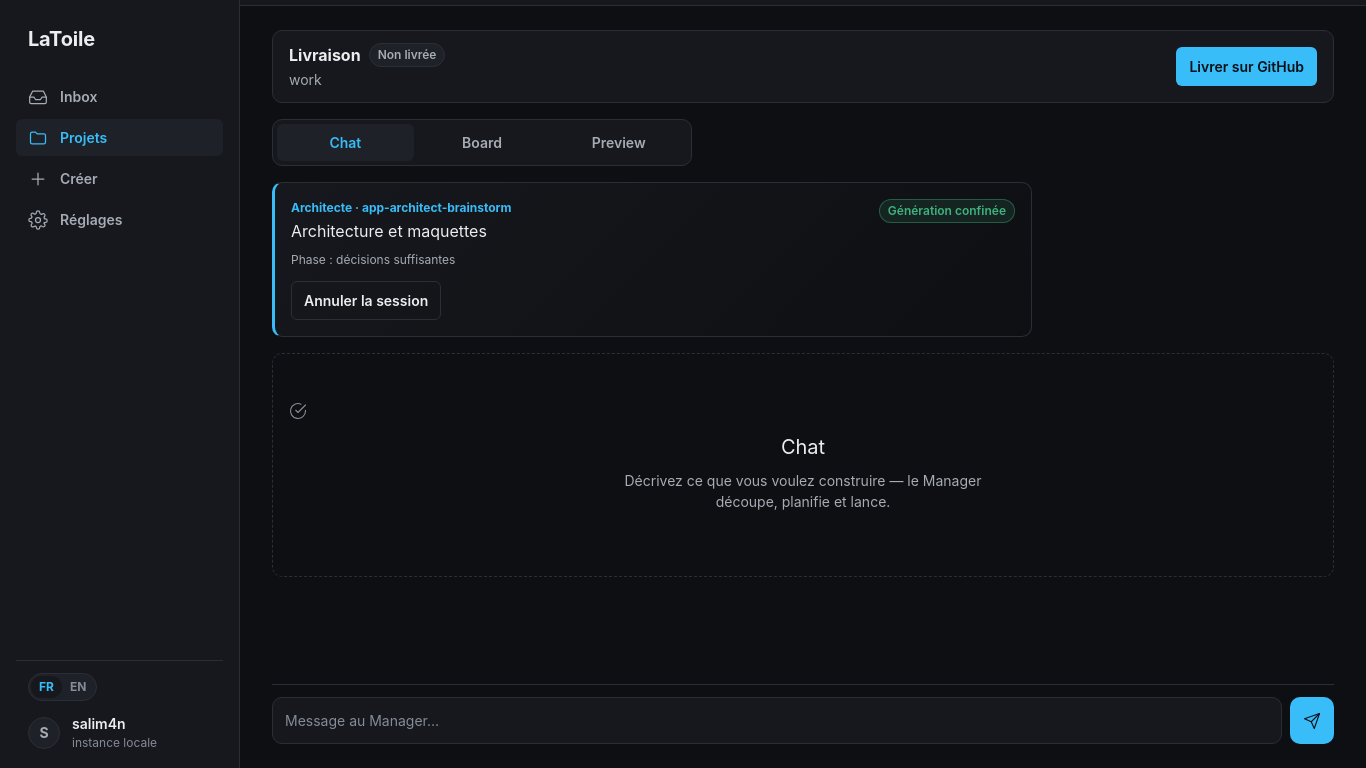
Test case: ISSUE-009 architecture package failure state › refreshes a rejected generation and shows its terminal reason
(page scrolled)
Expected: the text "Génération confinée" is shown, [879,199,1015,223]
In the field labelled "Message au Manager…": (777, 720) [272,697,1282,744], type "Generate the verified package"
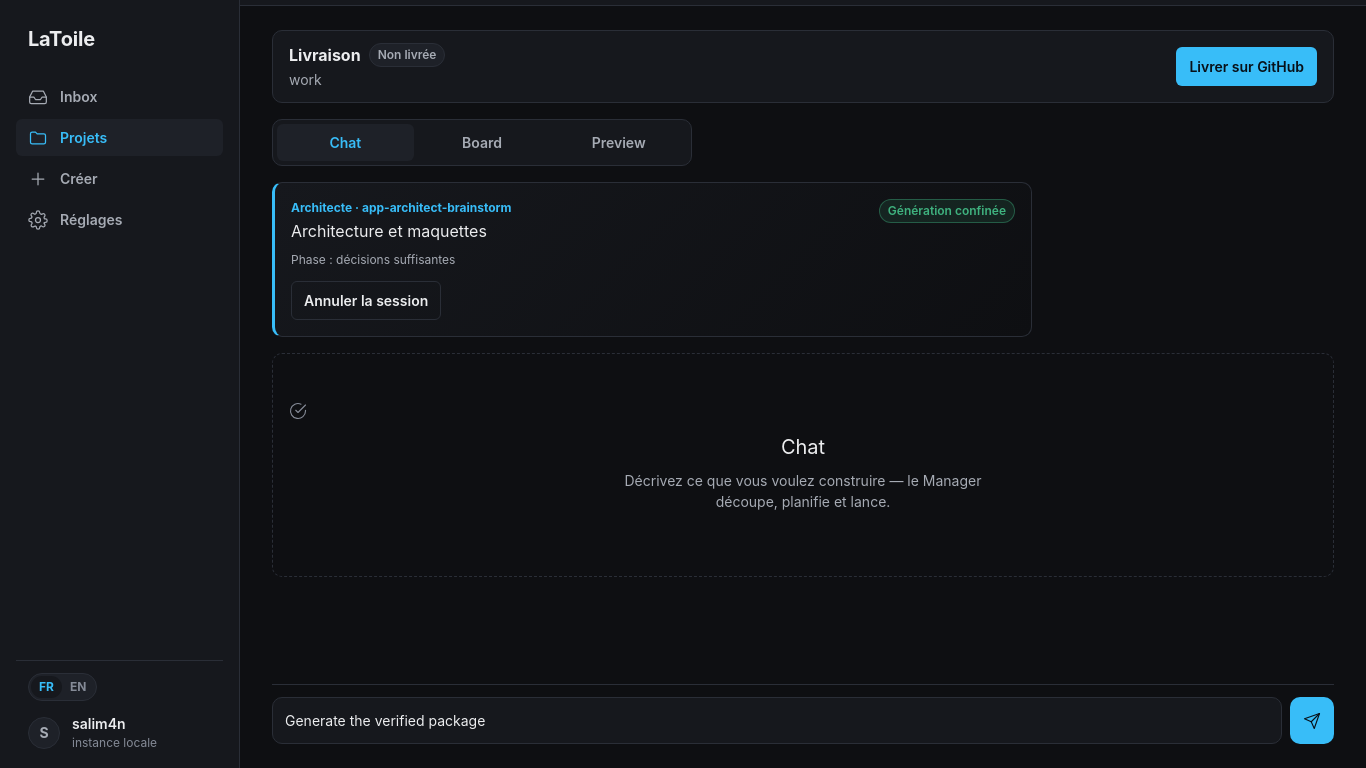
Click the button named "Envoyer": (1312, 720) [1290,697,1334,744]
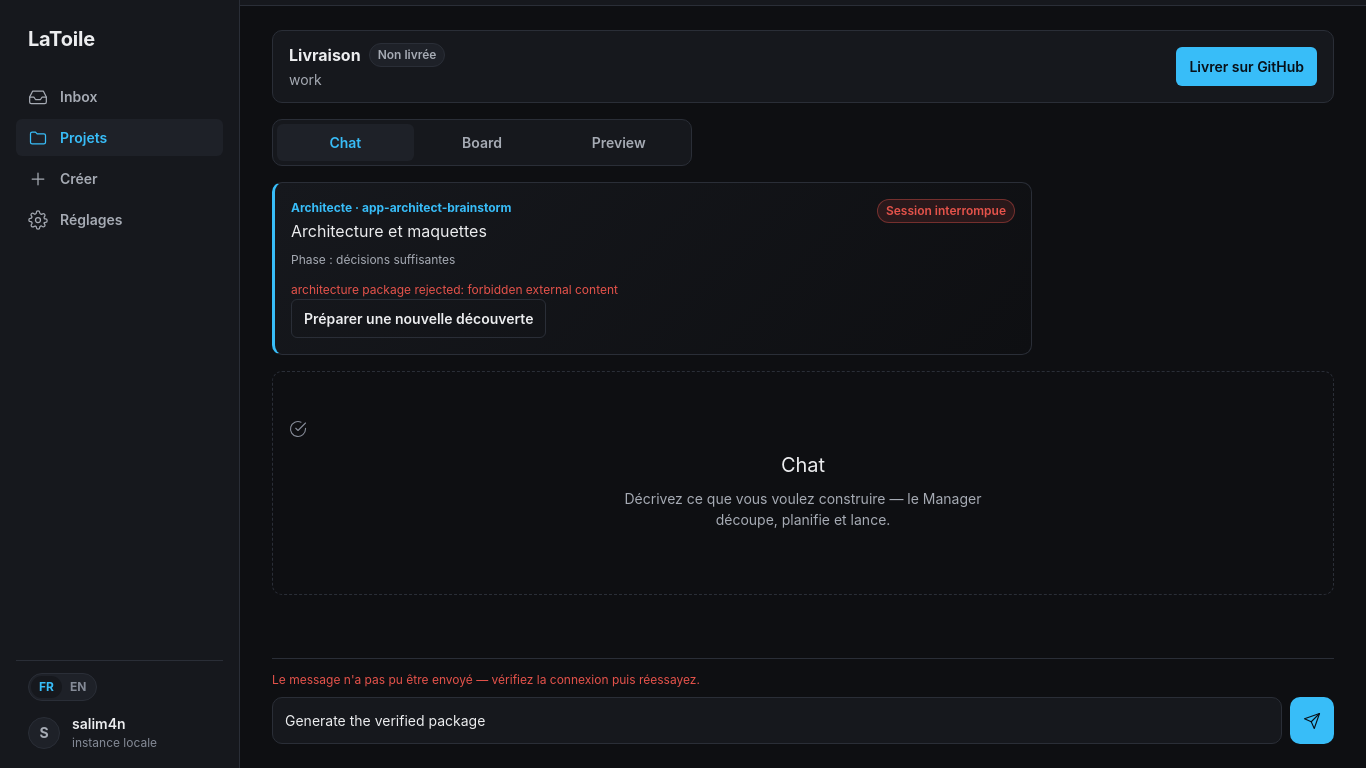
Now the text "Session interrompue" is shown, box [877,199,1015,223]
Now the message "architecture package rejected: forbidden external content" is shown, box [291,282,618,297]
Now the text "Génération confinée" is gone
